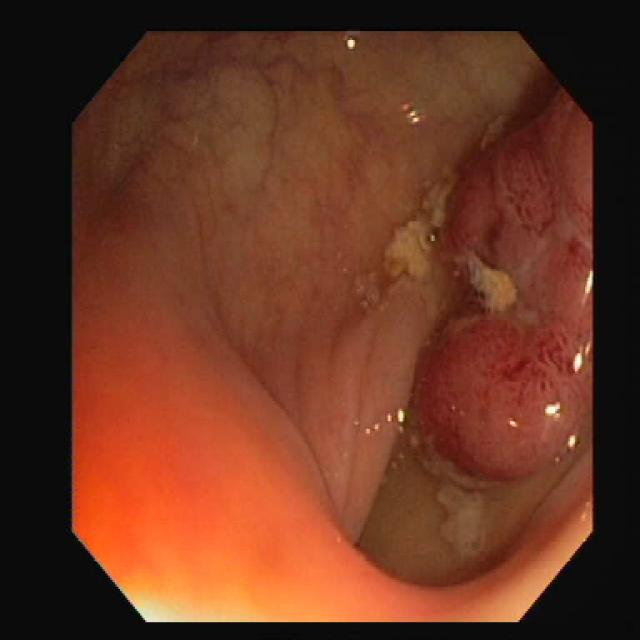tumor: (423, 91, 590, 478)
